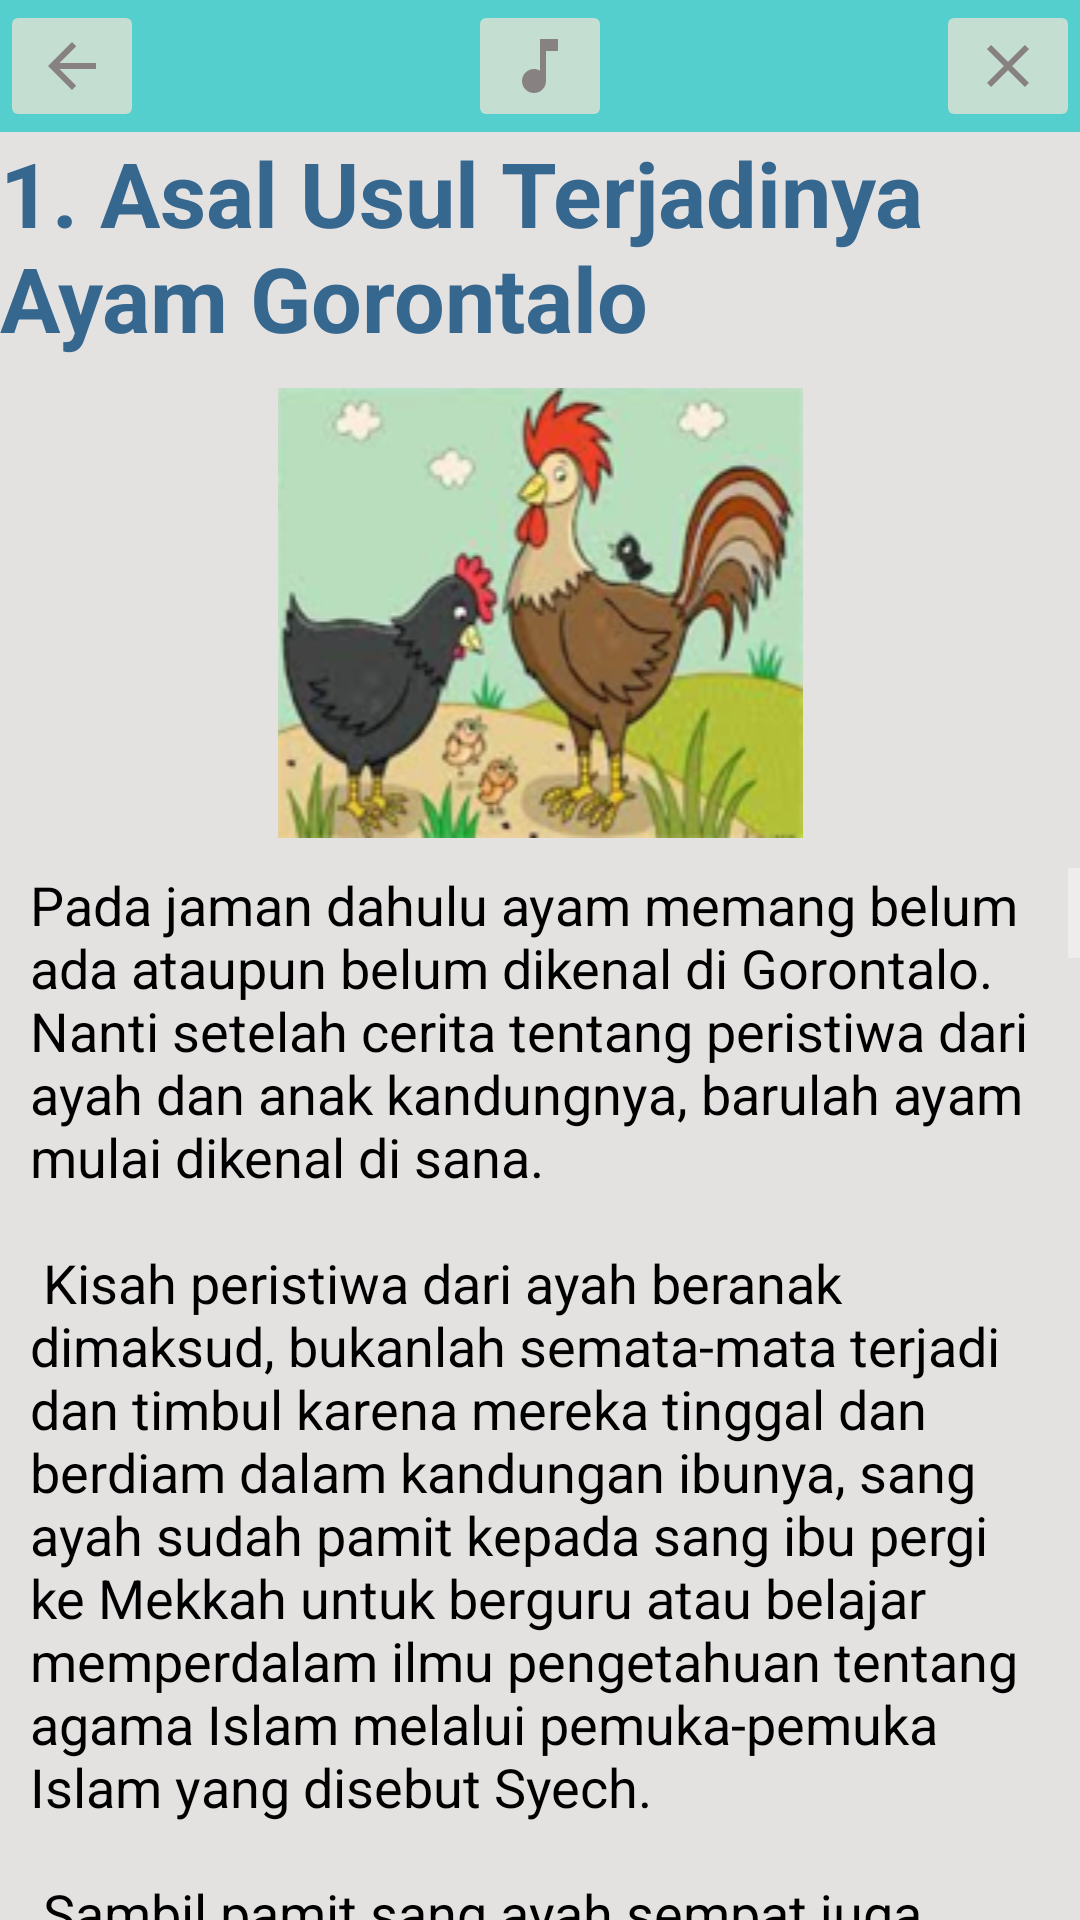

Icons on this 1080 x 1920 Android screen, each with its box as [x1,y1,x2,y2]:
arrow back: [12,18,132,114]
close: [948,18,1068,114]
music note: [480,18,600,114]
